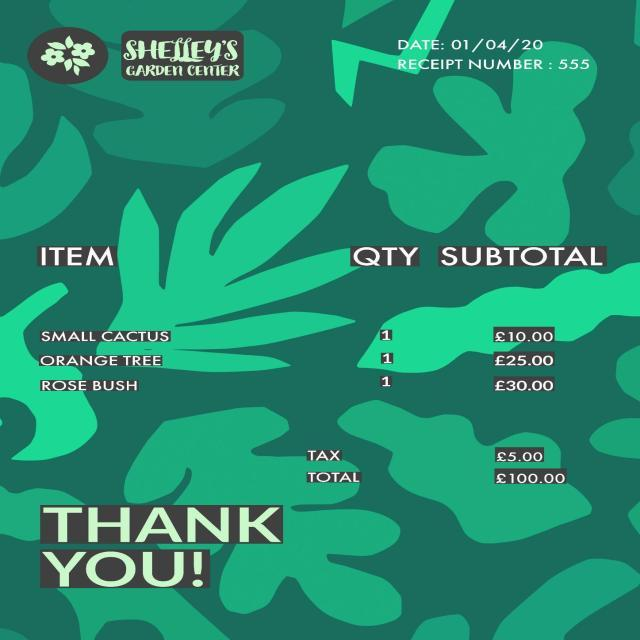ROI: (15, 241, 621, 399), (35, 500, 297, 597), (293, 438, 580, 489), (383, 32, 600, 74), (120, 34, 245, 82)
